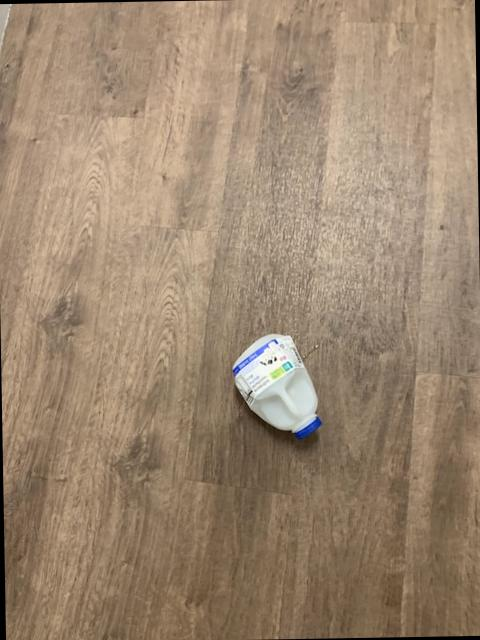plastic: (235, 333, 322, 437)
